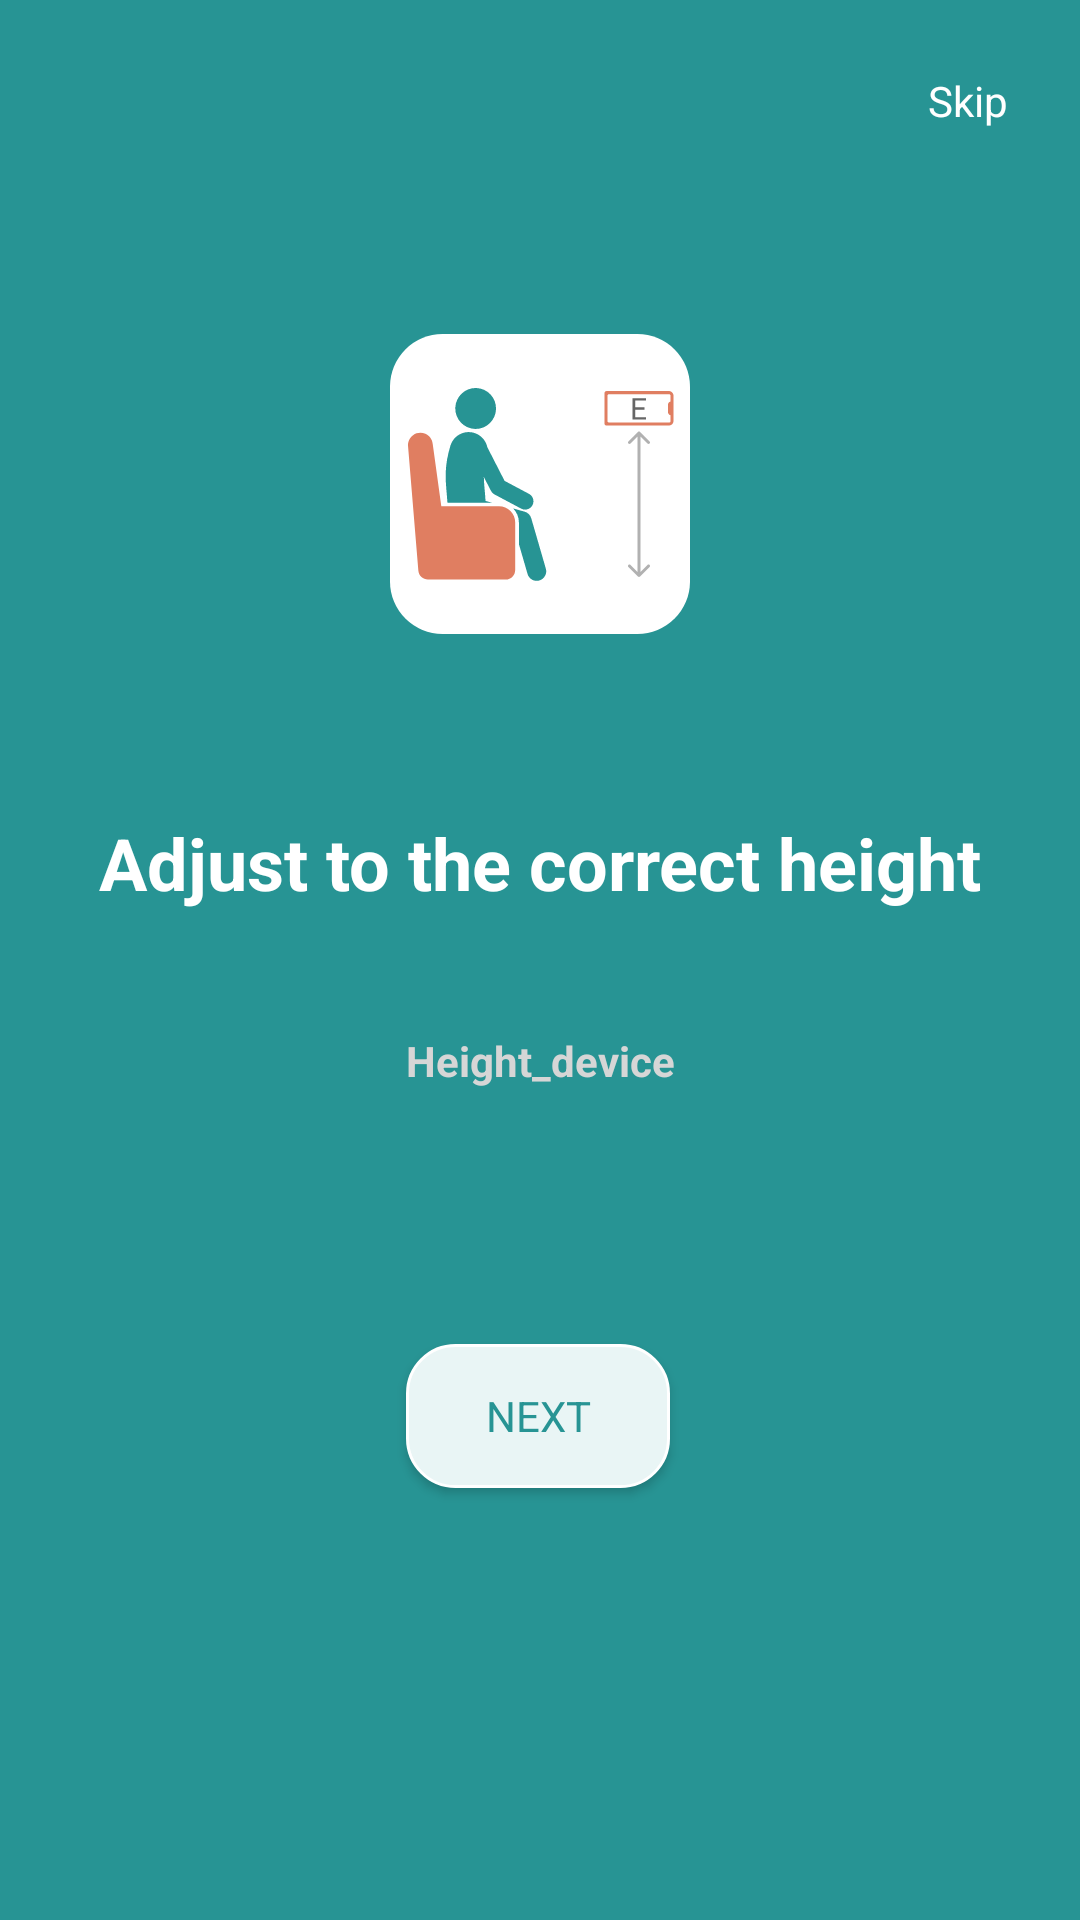

Screen size 1080x1920. Icon name, then its box in pixels as (left=x1, top=y1, right=x2, bottom=y2):
sitting men: (left=390, top=334, right=690, bottom=634)
